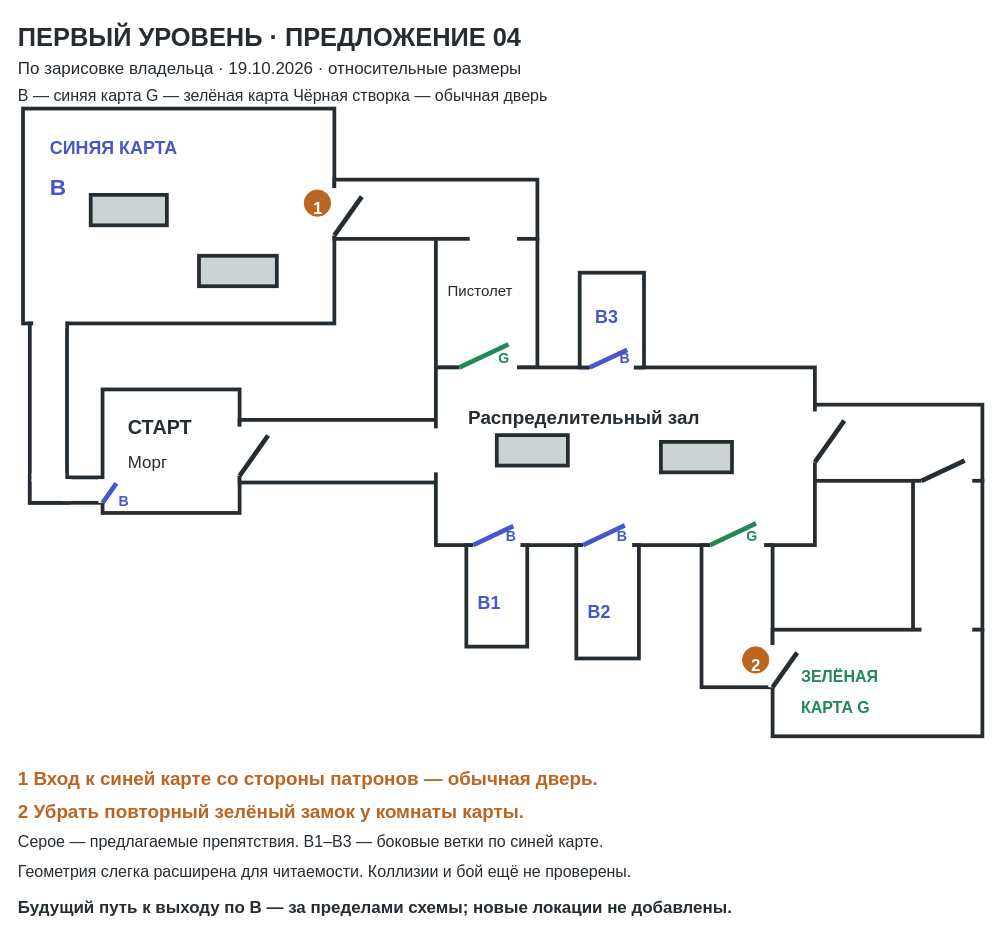
Image size: 1000x936. Some labels were removed from this diagram. Here are the shapes that lost their labels. From the top down, the centre of each, then its label:
At (x=435, y=208): "Патроны".
At (x=898, y=442): "Обход".
